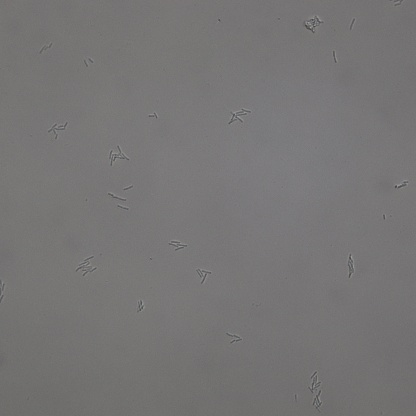R(colony): (76, 255, 96, 276), (108, 145, 130, 164), (230, 106, 251, 124), (48, 122, 69, 139), (304, 16, 323, 33), (312, 393, 325, 413), (309, 371, 321, 392), (168, 240, 187, 252), (347, 253, 355, 281), (196, 268, 210, 283), (227, 332, 242, 344), (38, 43, 52, 54), (394, 180, 408, 190), (137, 299, 145, 312), (83, 58, 93, 67)
